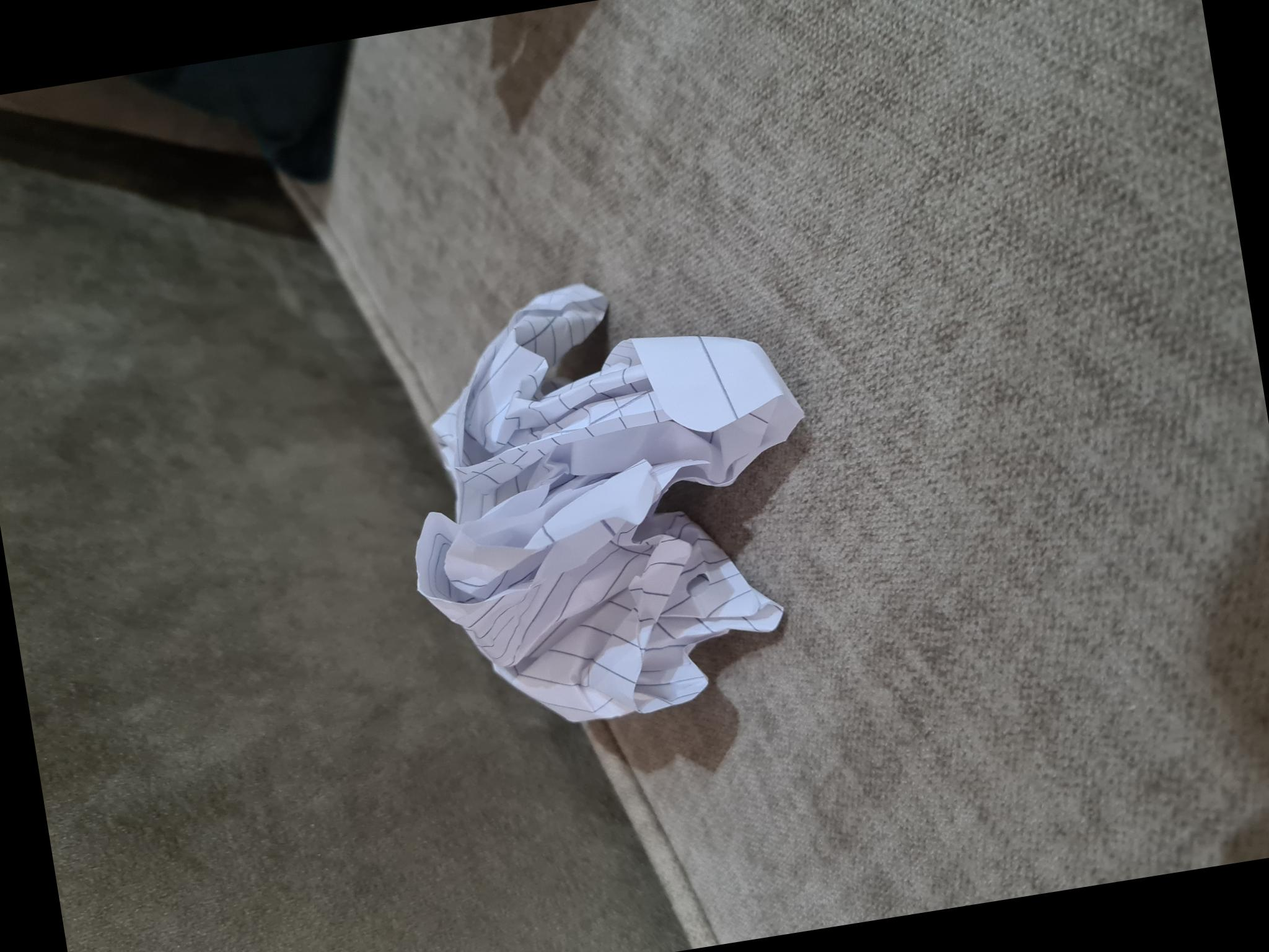Kertas: (258, 439, 694, 826)
